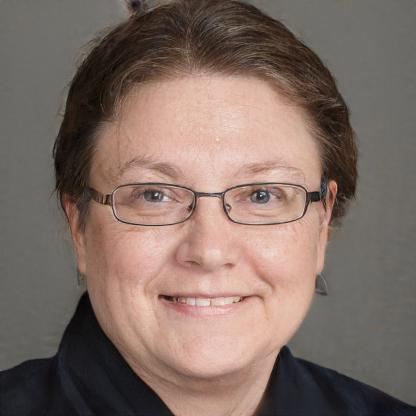glasses: (100, 176, 314, 229)
